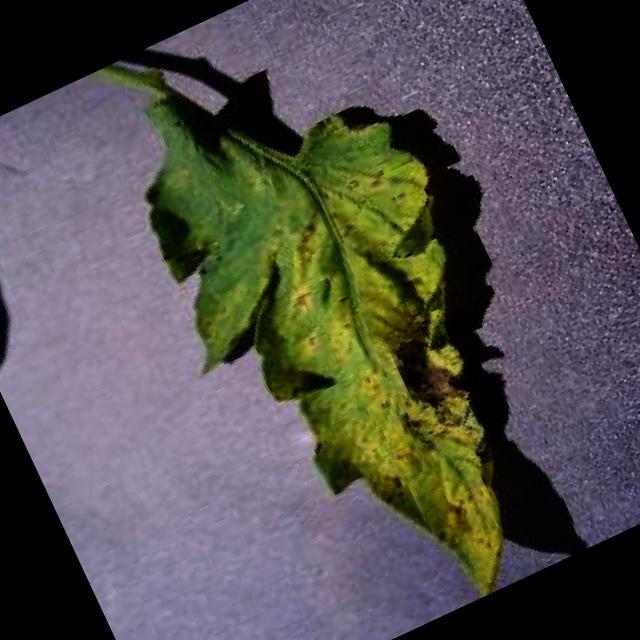Tomato Septoria spot leaf: (94, 12, 600, 640)
